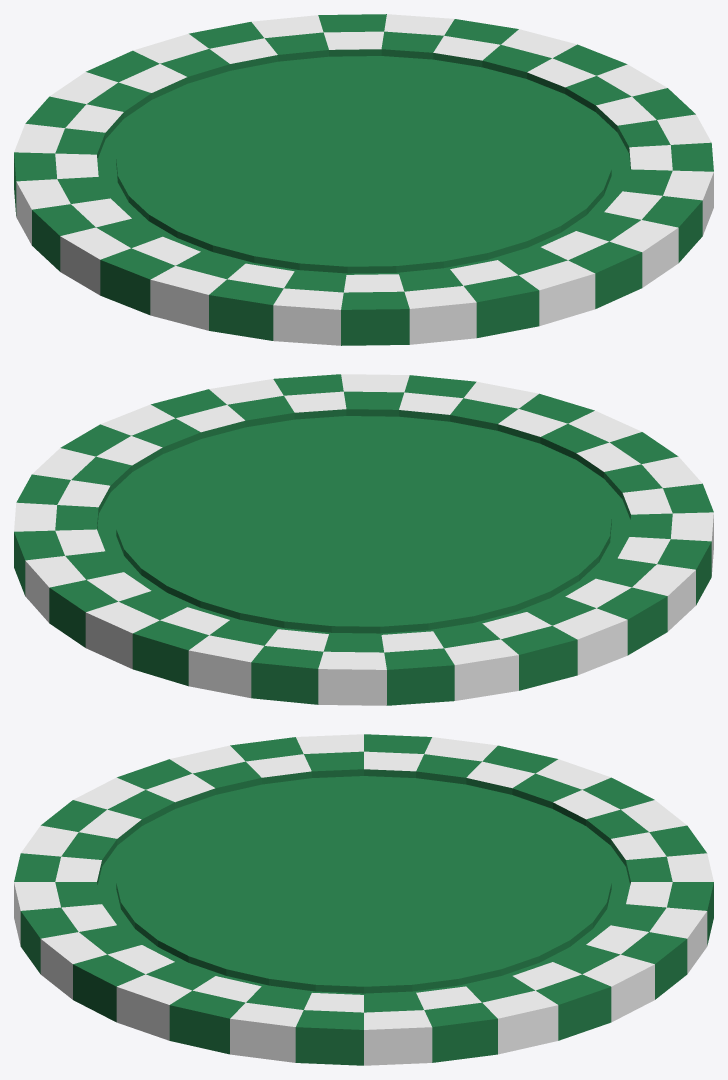
Rendered from PokerCoin.fbx.
The picture shows the model from 3 angles, top to bottom: view 1: azimuth 30°, elevation 25°; view 2: azimuth 150°, elevation 25°; view 3: azimuth 270°, elevation 25°; orthographic projection.
Parts seen in each view (by area): view 1: Msh_PokerCoin; view 2: Msh_PokerCoin; view 3: Msh_PokerCoin.
Boxes of the visible parts, x1,y1,x2,y2 form: Msh_PokerCoin: [14, 14, 713, 345]; Msh_PokerCoin: [14, 374, 713, 705]; Msh_PokerCoin: [14, 734, 713, 1065].
Bounding box in the file's own units: 35.46 × 2 × 35.46.
